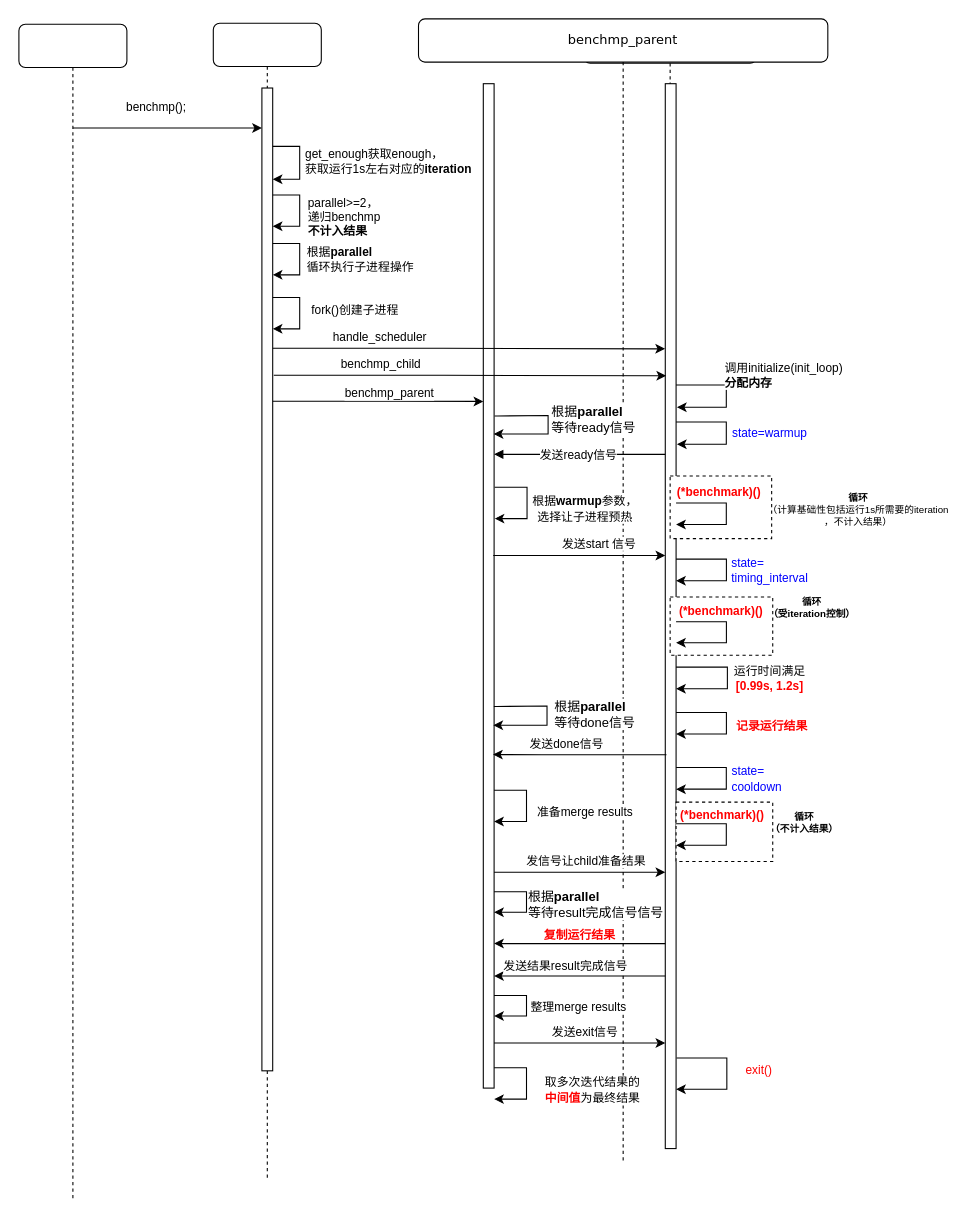
The diagram is 968 pixels wide and 1220 high, and some of its shapes have lost their labels. The box of each missing label's shape, as (x1, y1, x2, y2) in pixels:
benchmp: (212, 22, 321, 1179)
具体的benchmark: (18, 23, 127, 1202)
